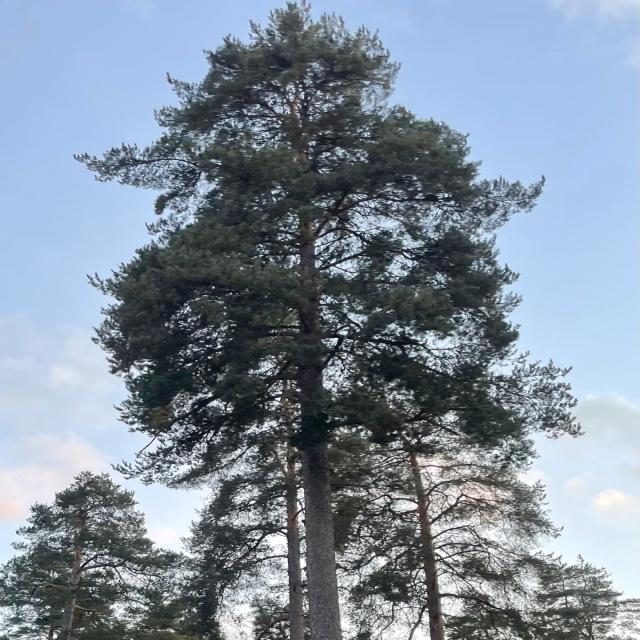pine: (66, 3, 549, 640)
